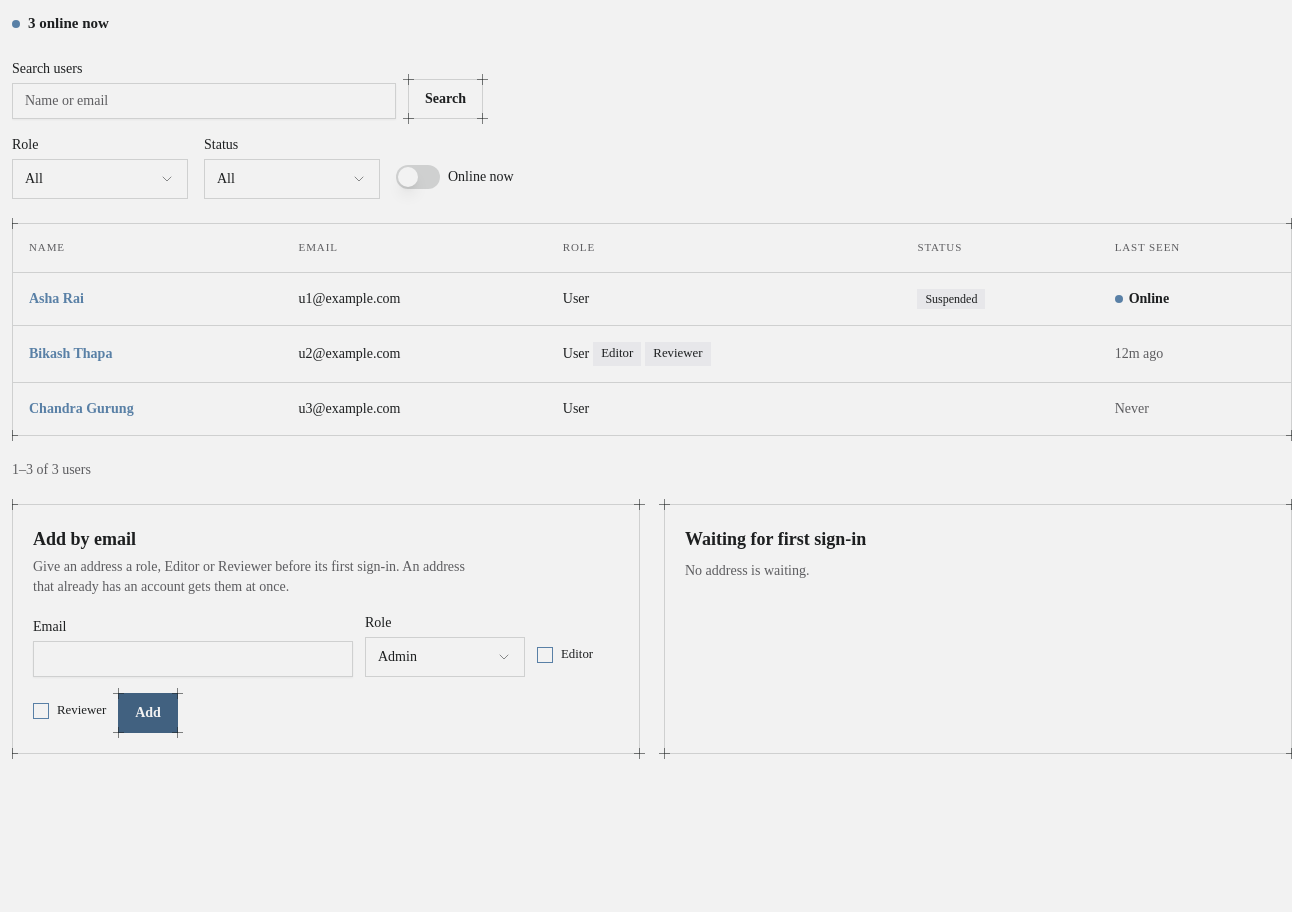
says the role applied at once for an address that already has an account
The image size is (1292, 912).
Type "asha@example.com" into the field labelled "Email" at (193, 659), box [33,641,353,677]
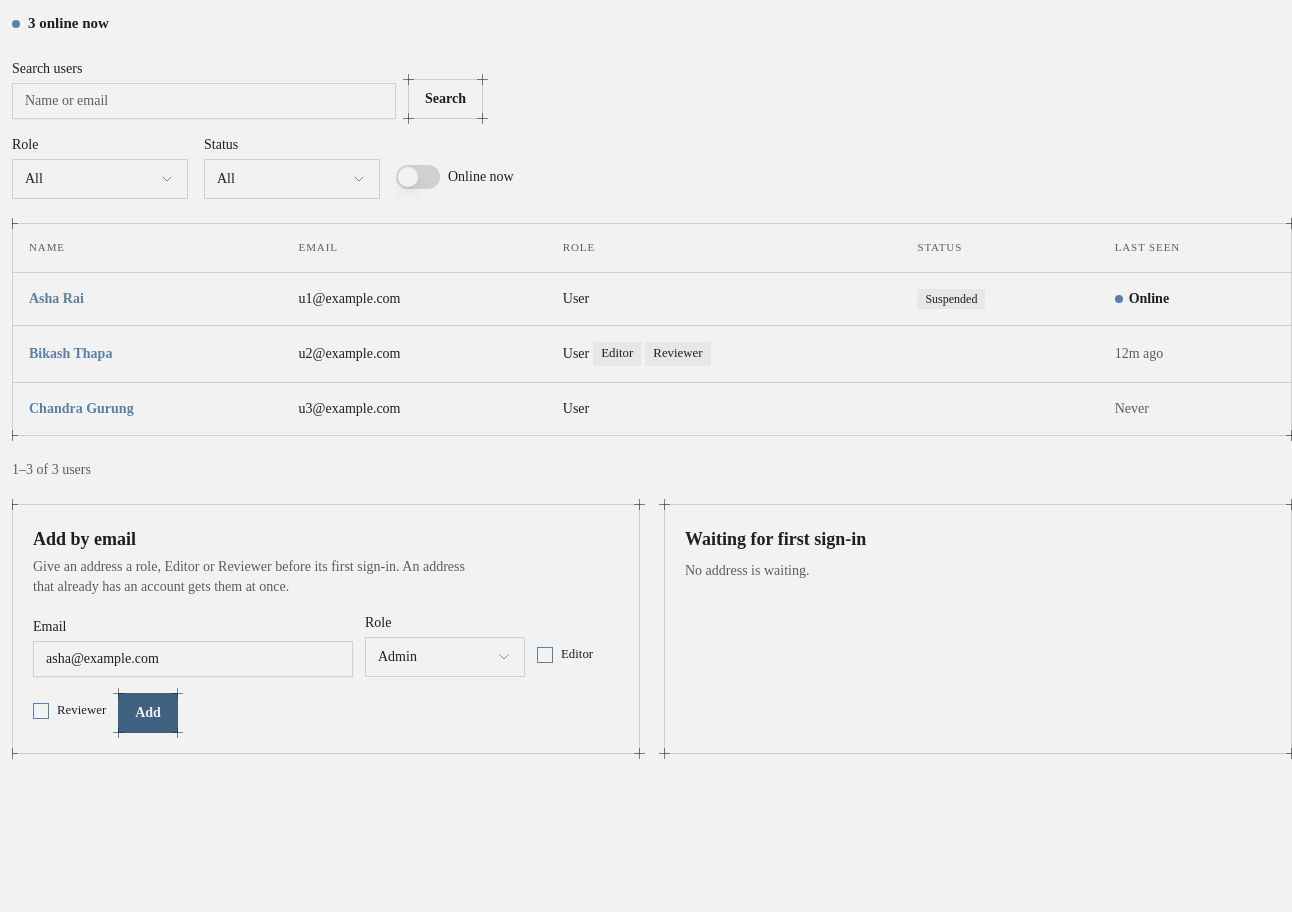
Click the button "Add" at (148, 713), box [118,693,178,733]
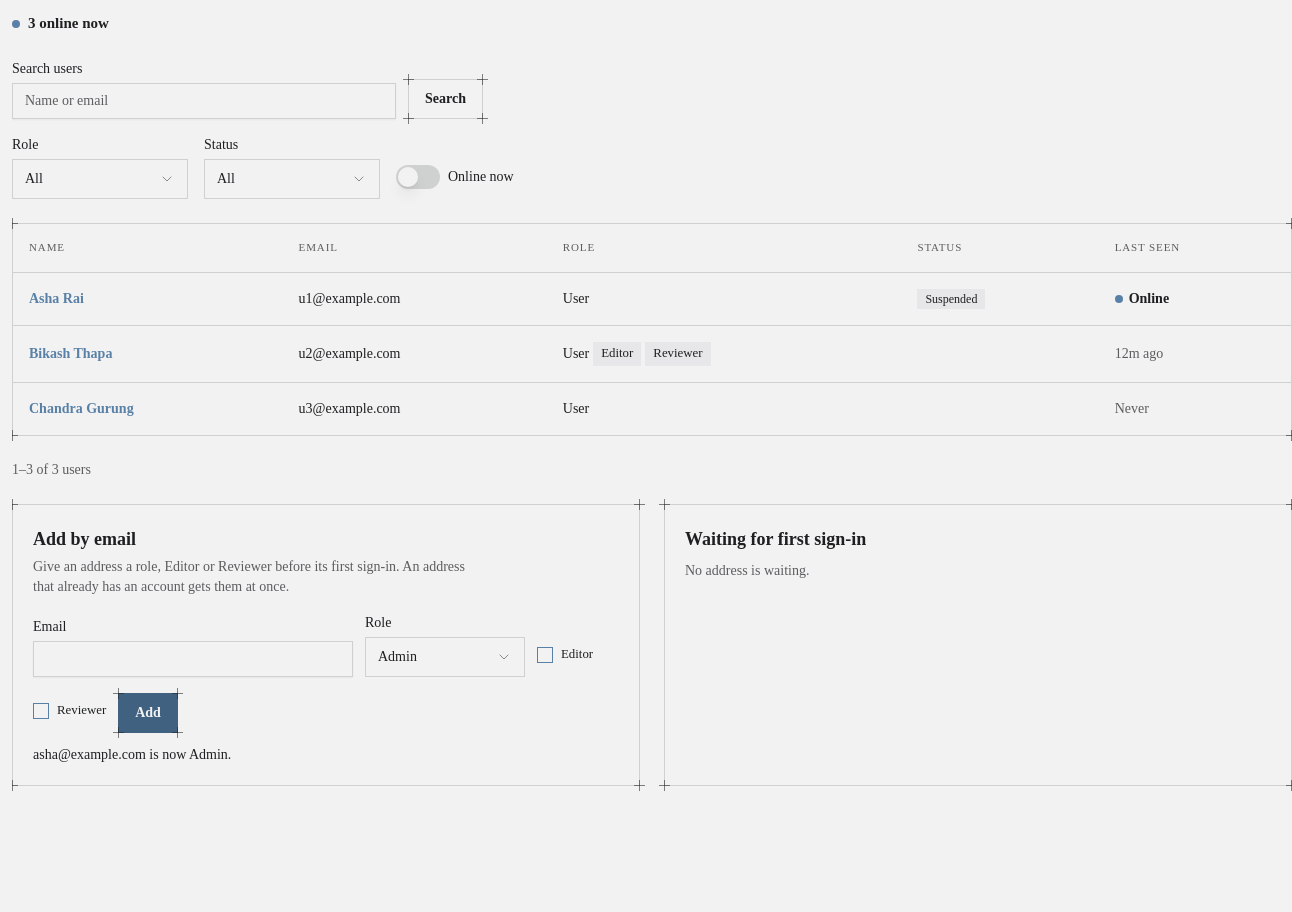
Expected: the text "asha@example.com is now Admin." is shown, [33,747,231,762]
